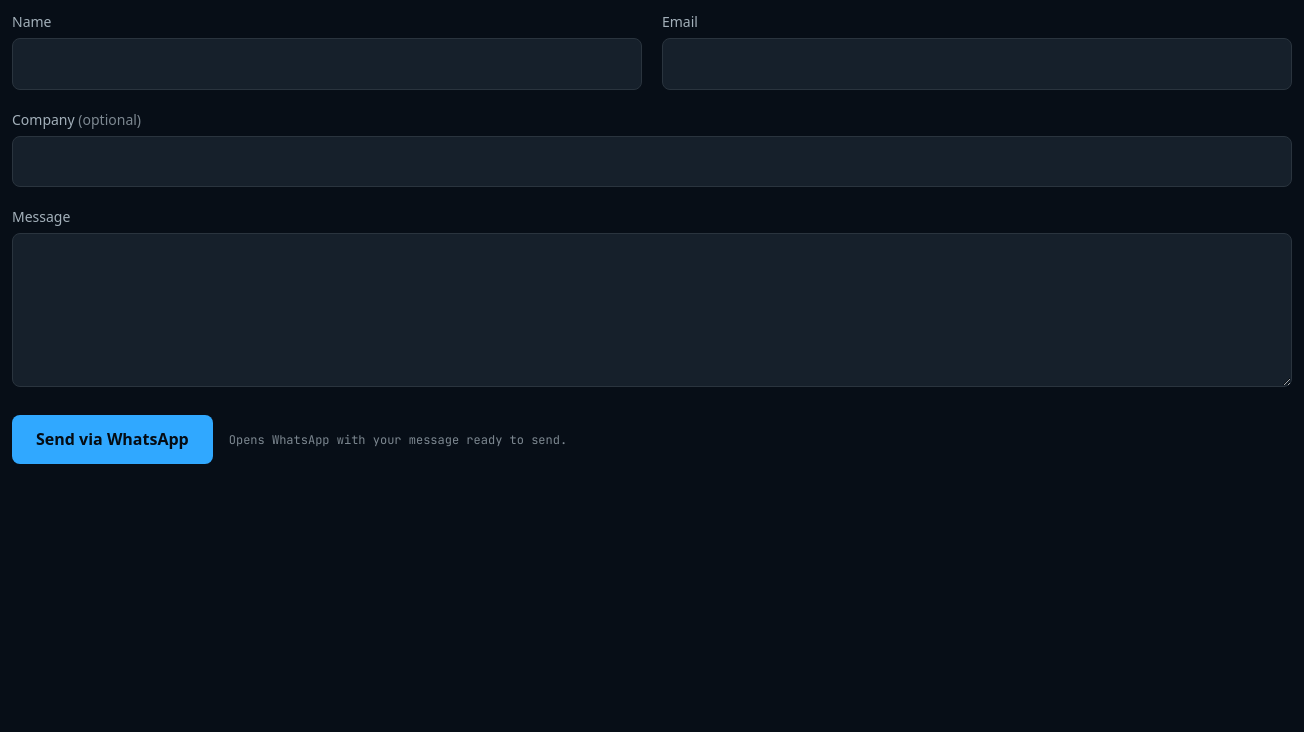
Test: ContactForm › shows validation errors and does not open WhatsApp on empty submit
Click the button "Send via WhatsApp": {"x": 112, "y": 440} [12,415,213,464]
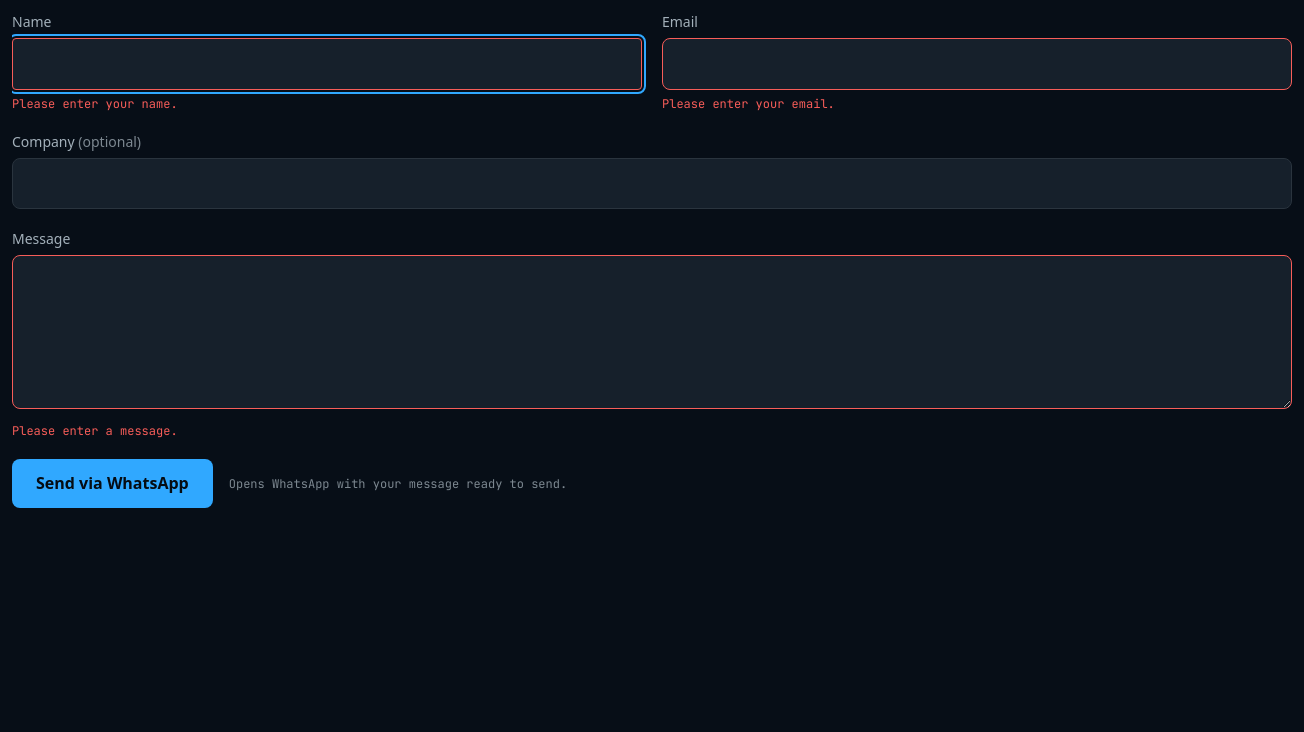
Check: the text "Please enter your name." is shown, box [12,96,178,112]
Check: the text "Please enter your email." is shown, box [662,96,835,112]
Check: the text "Please enter a message." is shown, box [12,423,178,439]
